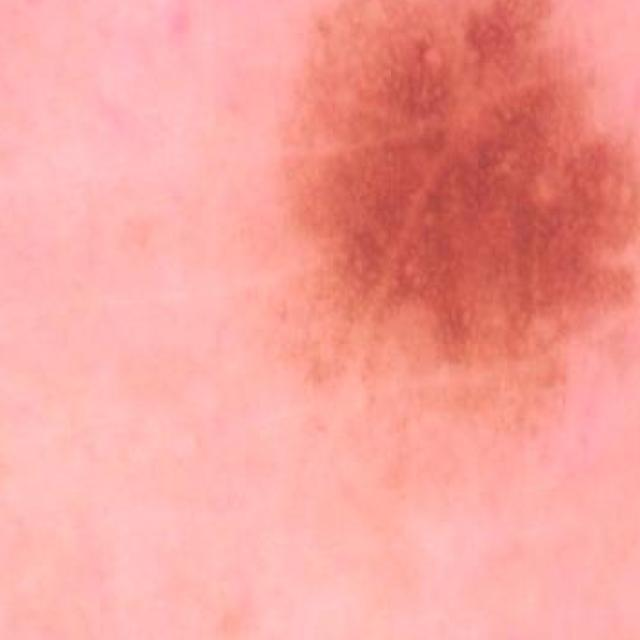NV: (298, 0, 640, 488)
